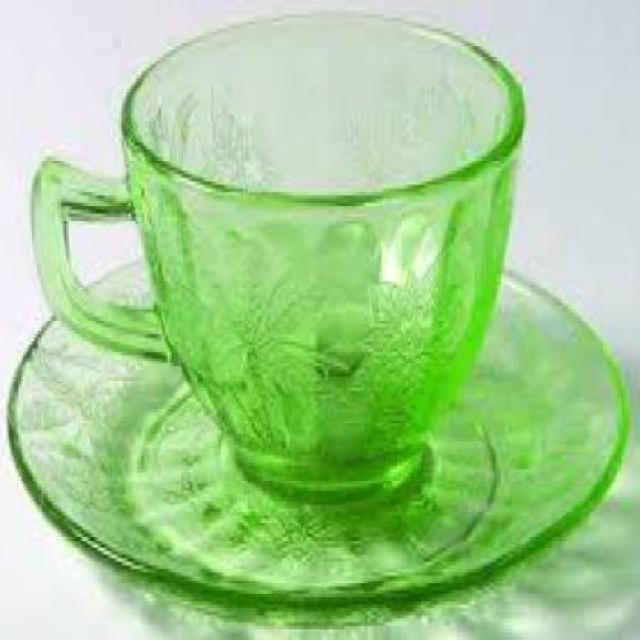GLASS: (35, 8, 527, 494), (12, 242, 630, 615)
